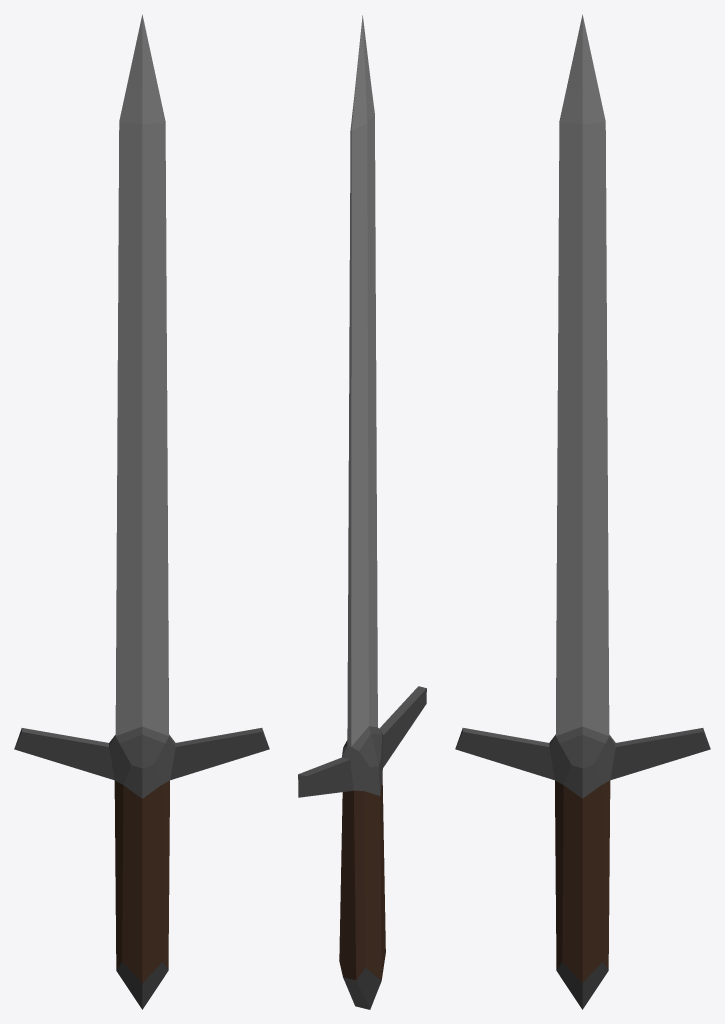
Rendered from sword.glb.
3 views of the same model, side by side, from view 1: azimuth 90°, elevation 25°; view 2: azimuth 150°, elevation 25°; view 3: azimuth 270°, elevation 25° (orthographic).
Parts seen in each view (by area): view 1: Cube; view 2: Cube; view 3: Cube.
Part boxes in pixels (x1,y1,x2,y2): Cube: (14,14,269,1009); Cube: (298,15,426,1009); Cube: (455,14,710,1009).
Size of the model in its own units: 0.0719 by 1.82 by 0.4242.
